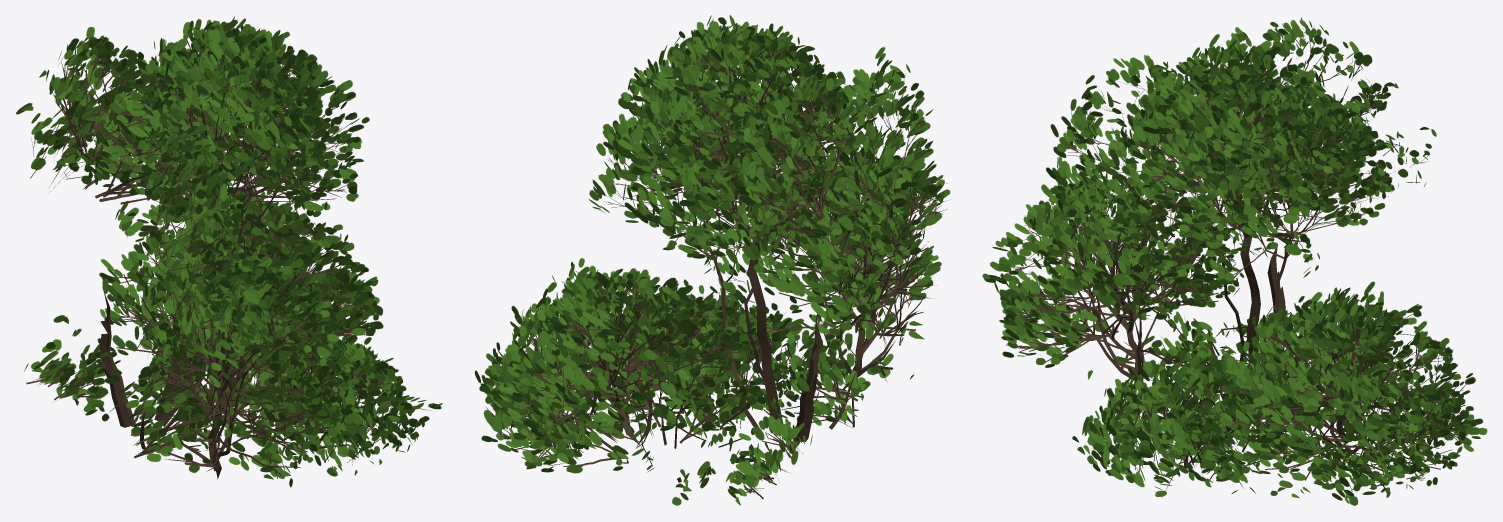
3 views of the same model, side by side, from view 1: azimuth 30°, elevation 25°; view 2: azimuth 150°, elevation 25°; view 3: azimuth 270°, elevation 25° (orthographic). The views are drawn at different scales.
Parts seen in each view (by area): view 1: oak 01.001_trunk_Mat.001_0.335; view 2: oak 01.001_trunk_Mat.001_0.335; view 3: oak 01.001_trunk_Mat.001_0.335.
Part boxes in pixels (x1,y1,x2,y2): oak 01.001_trunk_Mat.001_0.335: (16, 16, 442, 487); oak 01.001_trunk_Mat.001_0.335: (474, 15, 950, 505); oak 01.001_trunk_Mat.001_0.335: (982, 17, 1487, 505).
Size of the model in its own units: 3.01 by 3.63 by 4.25.
2 materials, 1 textured.
